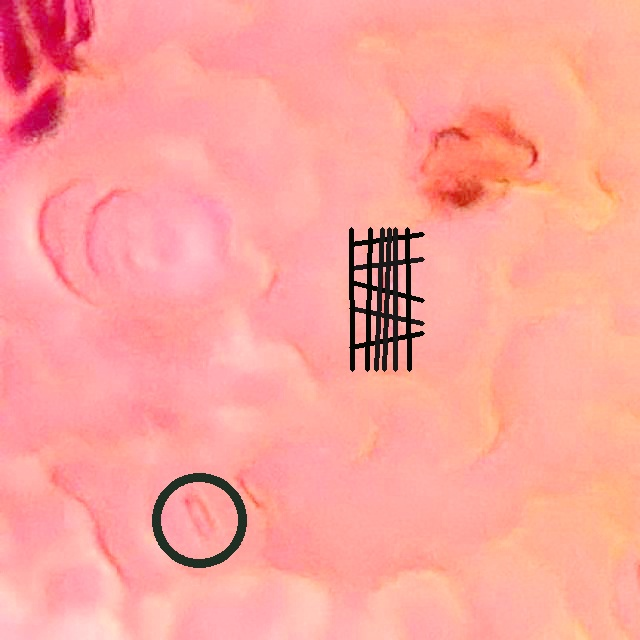open: (349, 227, 424, 371), (150, 471, 247, 568)
